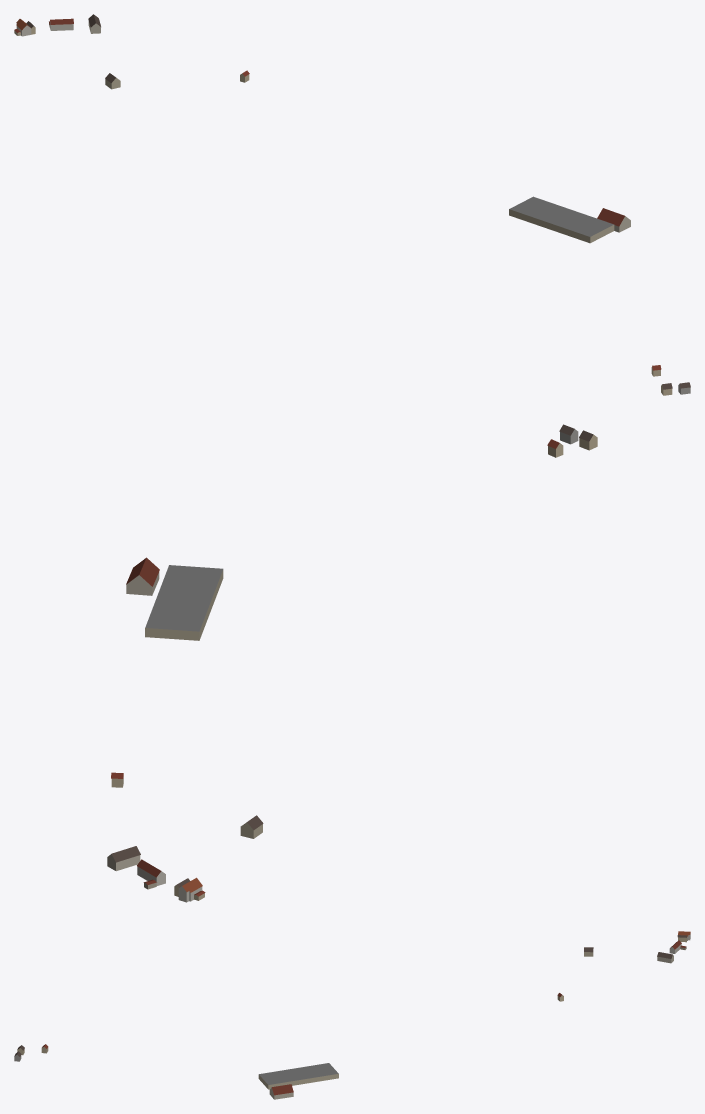
3 renders of one model, top to bottom at view 1: azimuth 30°, elevation 25°; view 2: azimuth 150°, elevation 25°; view 3: azimuth 270°, elevation 25°, orthographic. The views are drawn at different scales.
Parts seen in each view (by area): view 1: buildings; view 2: buildings; view 3: buildings.
Part boxes in pixels (bbox=[...]): buildings: bbox=[14, 14, 690, 395]; buildings: bbox=[107, 424, 597, 902]; buildings: bbox=[14, 931, 690, 1099].
Size of the model in its own units: 326 by 75.96 by 798.
